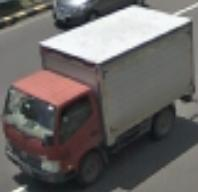truck: (1, 69, 115, 189)
